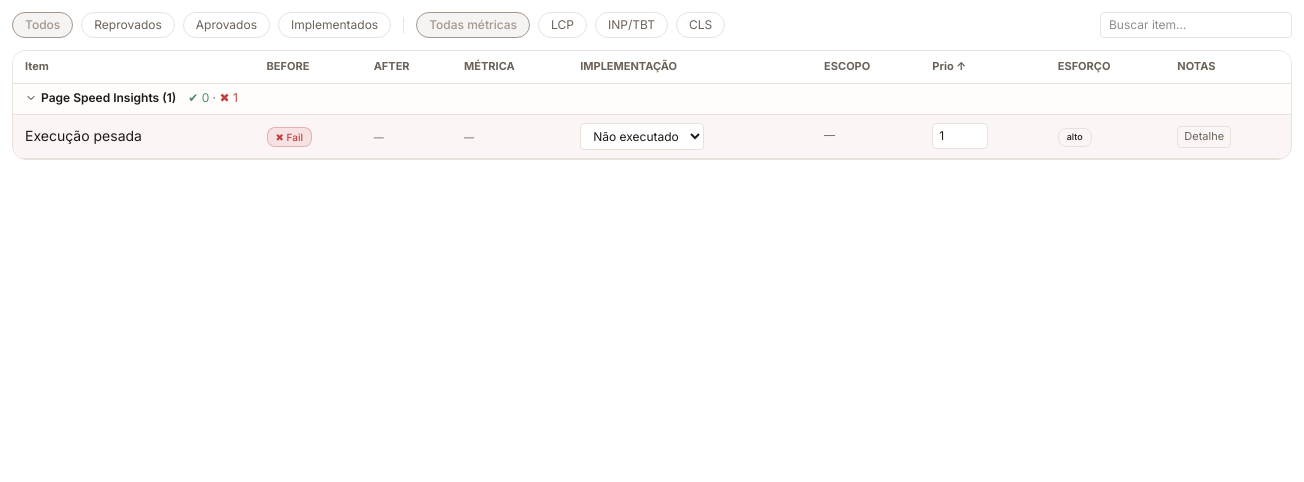
ChecklistGrid › evidências com total > exibidos mostra '+N não exibidos'
Click the button with aria-label "detalhe de Execução pesada": (1204, 137) [1177, 126, 1231, 148]
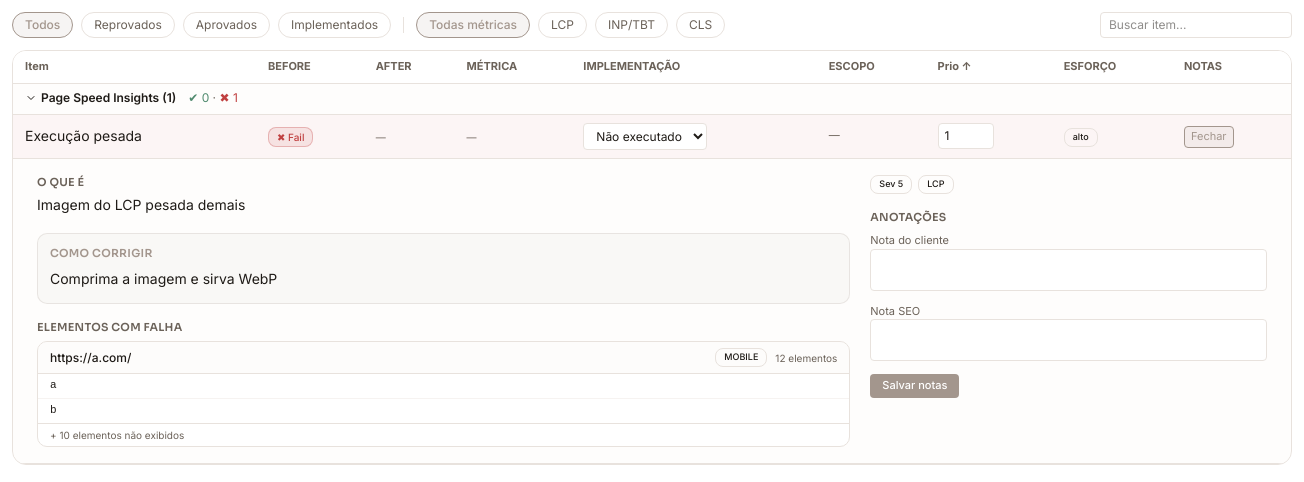
Expected: the text "+ 10 elementos não exibidos" is shown, [38, 423, 849, 446]
